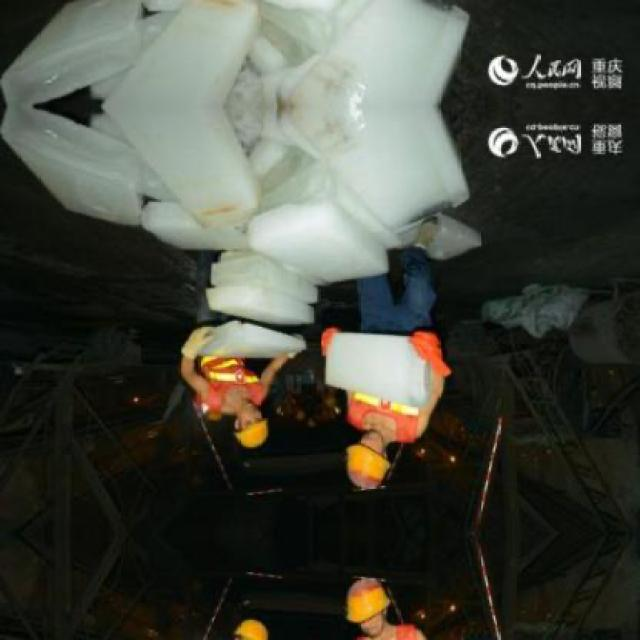con casco: (305, 438, 390, 510), (202, 393, 262, 460)
